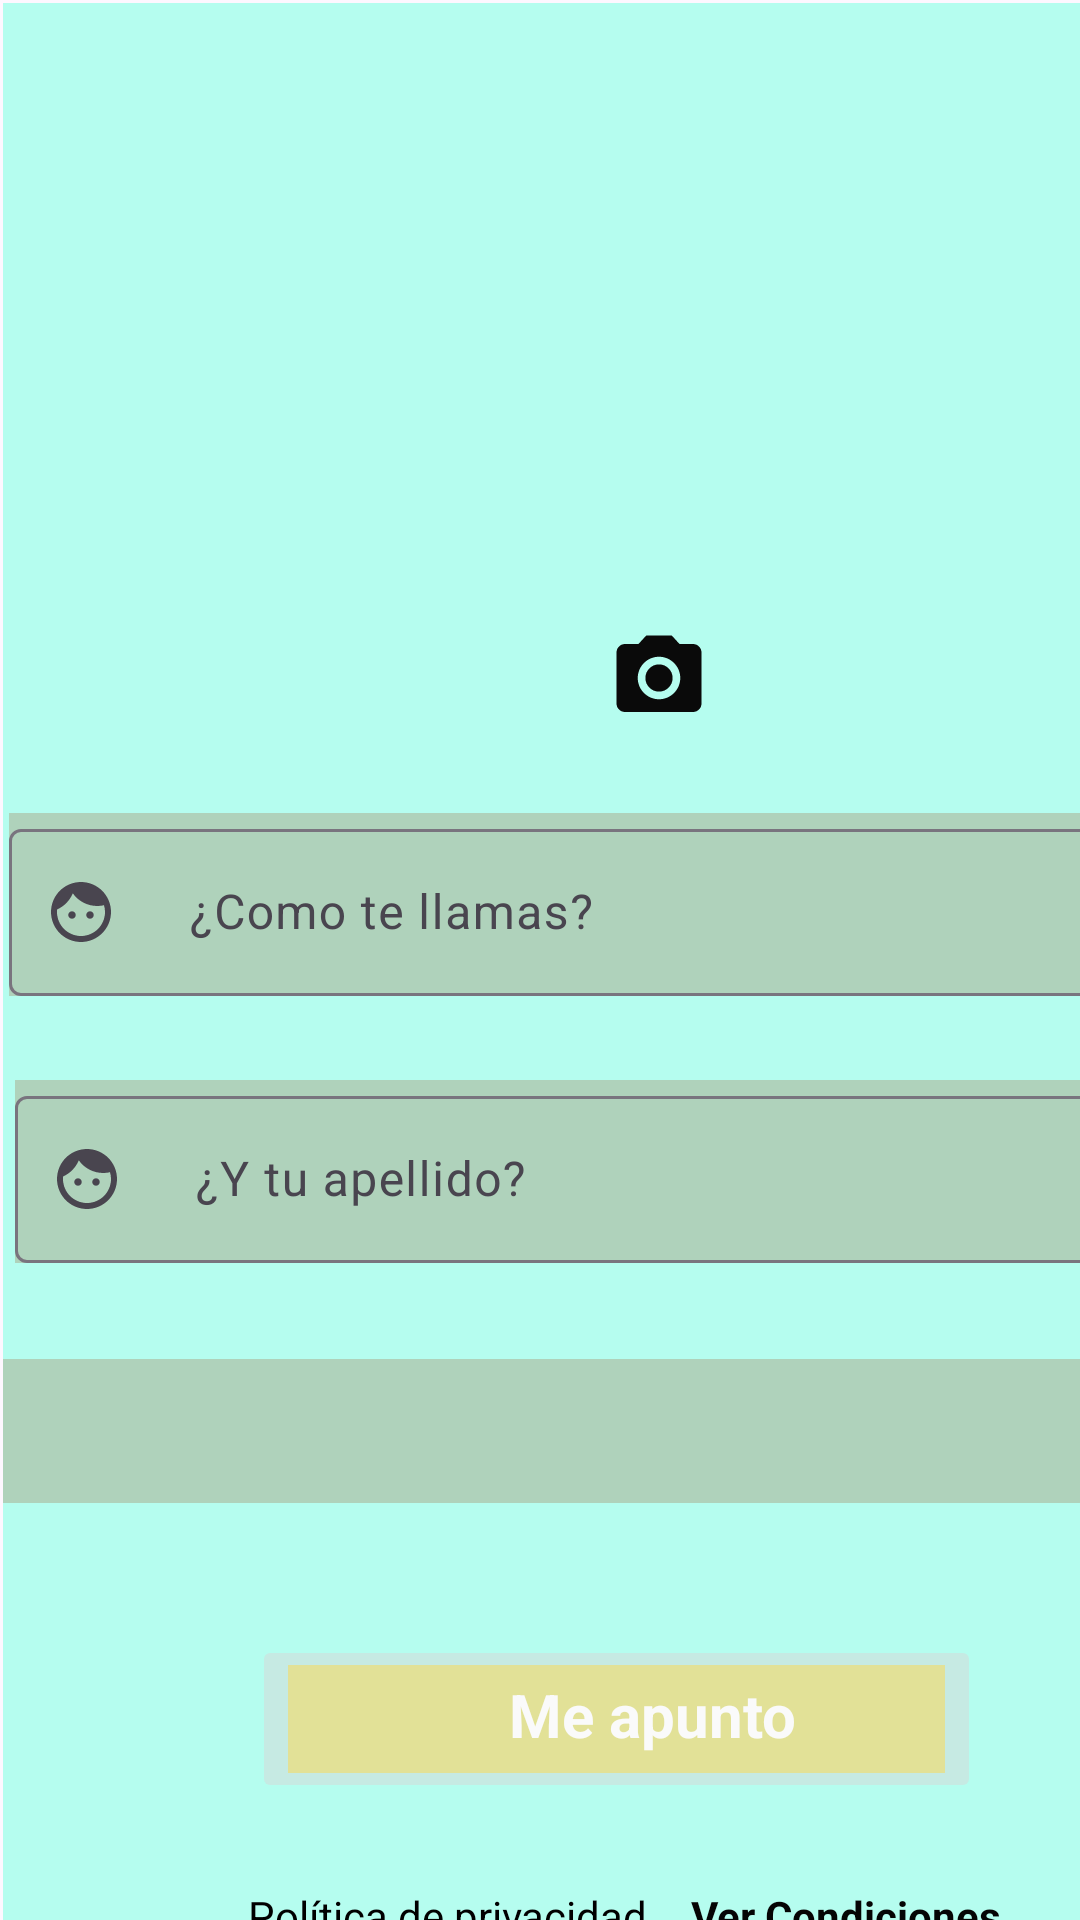

Locate icon controls on the screen. Image size 1080px×1920px, boxes as bbox=(x1, y1, x2, y2).
photo camera: bbox=(616, 635, 702, 712)
